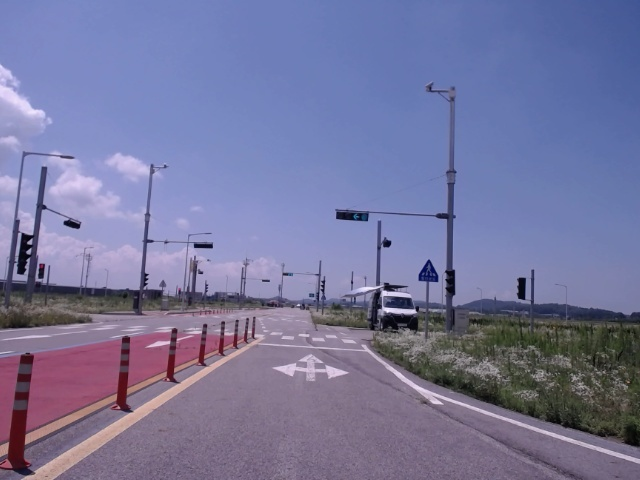all_green_4: (333, 211, 371, 222)
